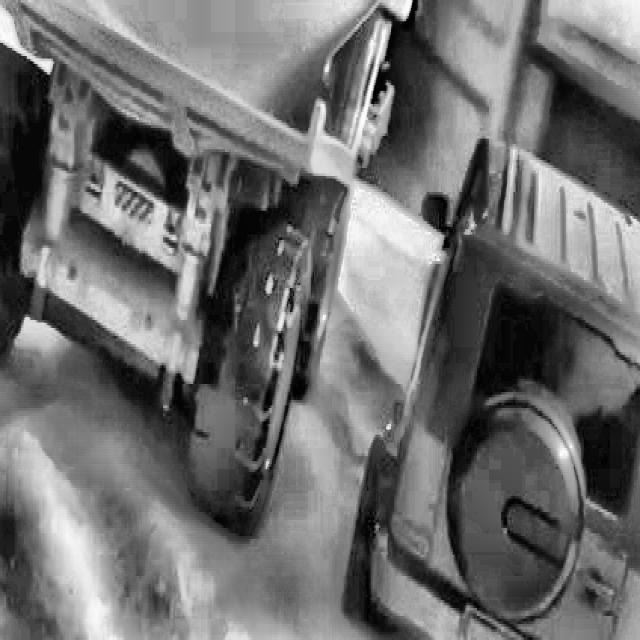dump_truck: (0, 0, 349, 512)
light_vehicle: (379, 125, 640, 640)
